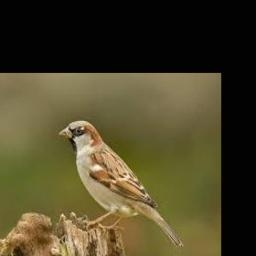Sparrow: (59, 120, 184, 248)
